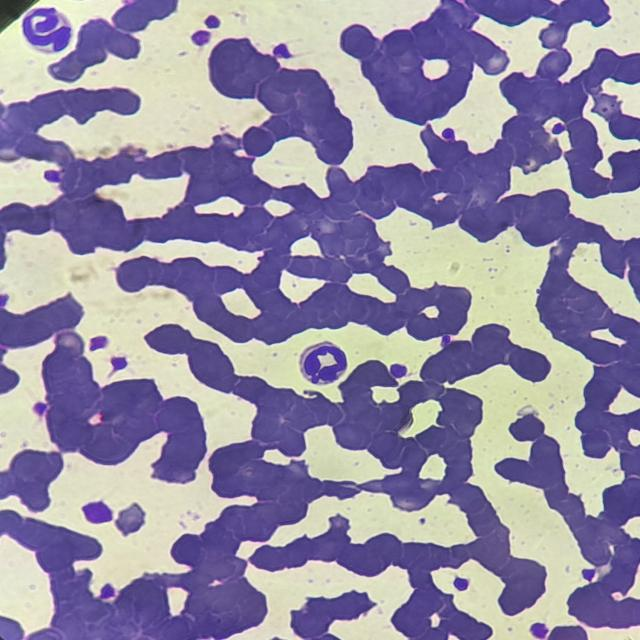Neutrofilo: (20, 6, 75, 55), (299, 340, 354, 386)
